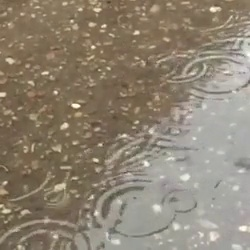drop: (86, 177, 174, 236), (184, 53, 250, 102), (1, 220, 92, 250), (150, 52, 207, 83), (1, 171, 49, 202), (162, 189, 196, 213), (44, 185, 66, 205), (234, 158, 250, 174)
